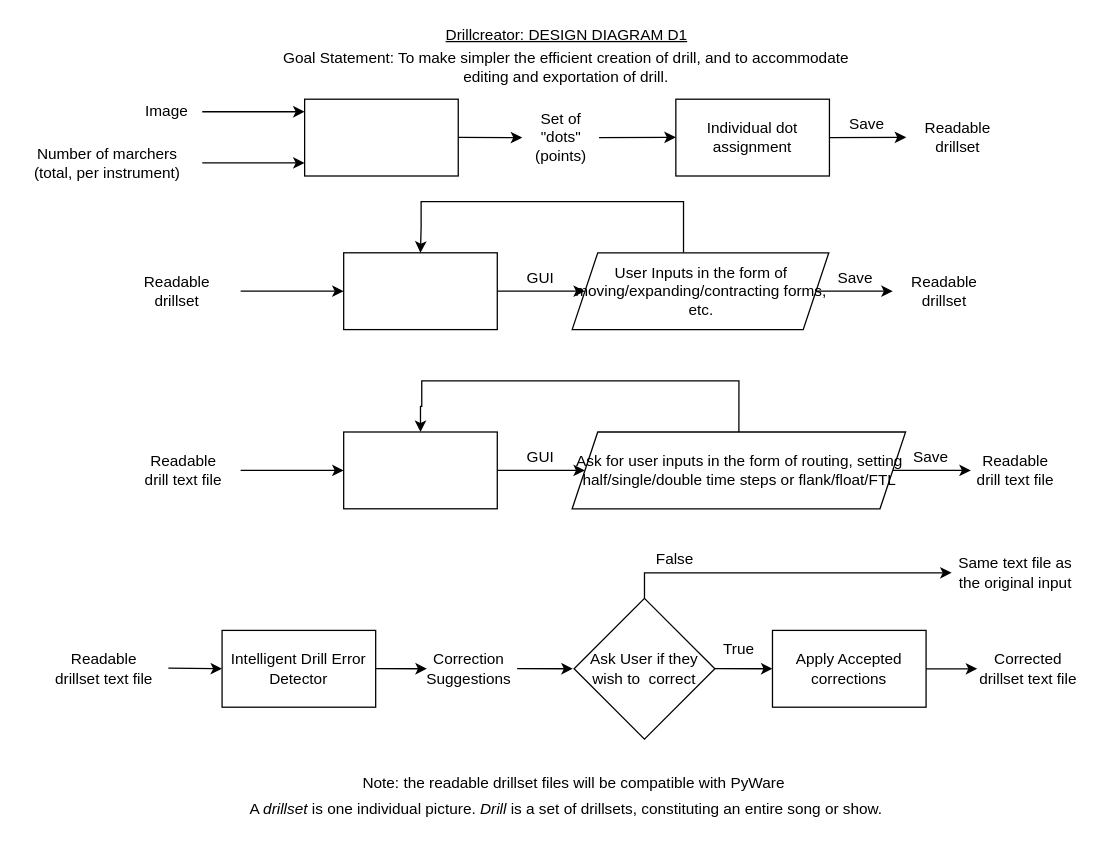
This 1101x844 diagram has some shape labels left out. The centre of each missing label's shape, as x and y in pixels:
"Drill Editor" belongs at point 419,470.
"Drillset Editor" belongs at point 419,291.
"Image-to-drillset Converter" belongs at point 380,137.
